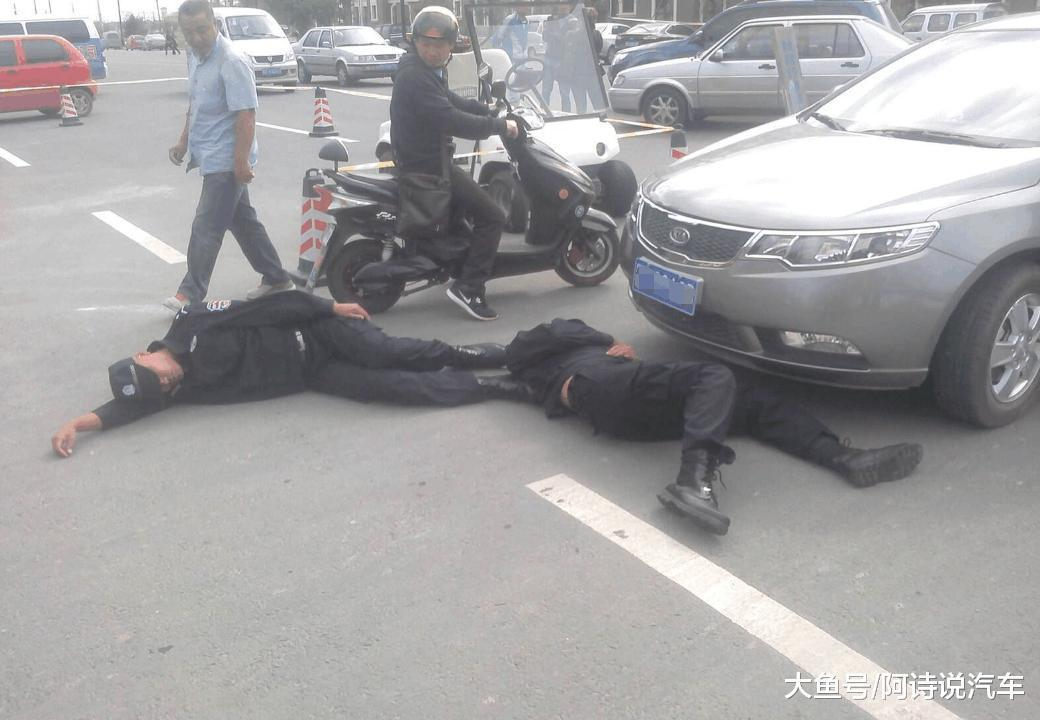bending: (390, 1, 512, 323)
down: (510, 283, 925, 555), (53, 281, 517, 442)
up: (156, 1, 298, 320)
